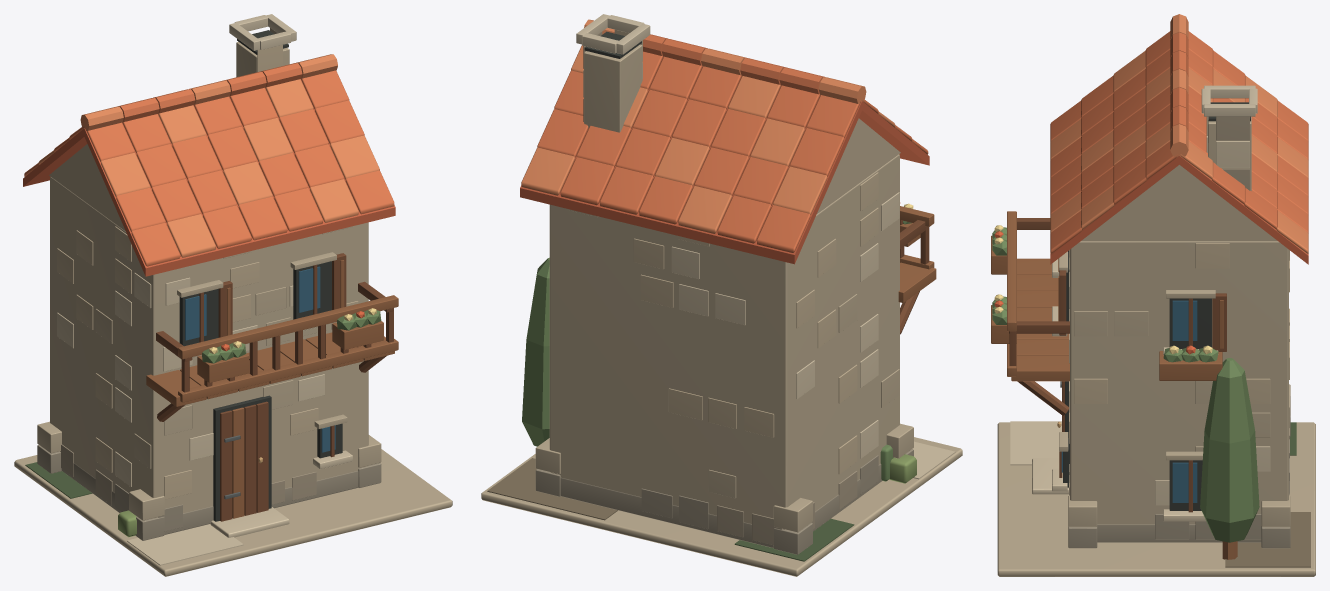
File: house_tall.glb
3 renders of one model, left to right at view 1: azimuth 30°, elevation 25°; view 2: azimuth 150°, elevation 25°; view 3: azimuth 270°, elevation 25°, orthographic. The views are drawn at different scales.
Visible parts, largest first — view 1: house_tall; view 2: house_tall; view 3: house_tall.
Boxes of the visible parts, left/top/right/bottom form: house_tall: left=14, top=14, right=452, bottom=576; house_tall: left=481, top=14, right=962, bottom=576; house_tall: left=991, top=14, right=1315, bottom=576.
Size of the model in its own units: 2.17 by 2.99 by 2.
